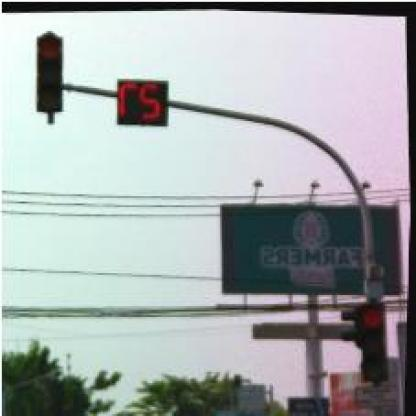red: (30, 29, 65, 114), (357, 299, 394, 379)
